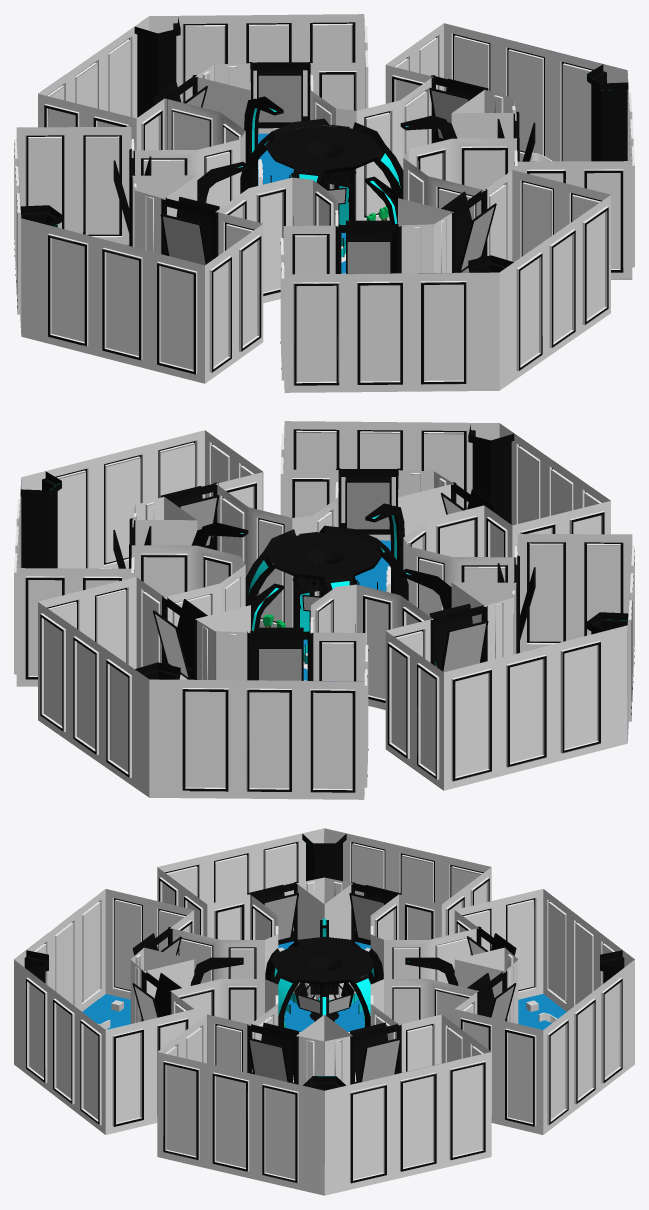
The model's file is hall2.glb.
3 views of the same model, one above another, from view 1: azimuth 30°, elevation 25°; view 2: azimuth 150°, elevation 25°; view 3: azimuth 270°, elevation 25° (orthographic). The views are drawn at different scales.
Visible parts, largest first — view 1: Circle, Circle.041, Circle.001, Circle.033, PanelDisplayA4, PanelDisplayD1, PanelDisplayC3, PanelDisplayC1, PanelDisplayB4; view 2: Circle, Circle.041, Circle.001, Circle.033, PanelDisplayC2, PanelDisplayD3, PanelDisplayA2, PanelDisplayA1, PanelDisplayB3; view 3: Circle, Circle.041, Circle.001, Circle.033, PanelDisplayB2, PanelDisplayB1, PanelDisplayD4, PanelDisplayD2.
Part boxes in pixels (bbox=[...]): Circle: bbox=[14, 14, 634, 392]; Circle.041: bbox=[20, 17, 628, 273]; Circle.001: bbox=[240, 118, 403, 273]; Circle.033: bbox=[113, 62, 535, 273]; PanelDisplayA4: bbox=[258, 75, 301, 122]; PanelDisplayD1: bbox=[163, 216, 205, 265]; PanelDisplayC3: bbox=[347, 242, 390, 273]; PanelDisplayC1: bbox=[461, 207, 494, 270]; PanelDisplayB4: bbox=[431, 90, 467, 138]; Circle: bbox=[14, 421, 634, 799]; Circle.041: bbox=[20, 424, 628, 680]; Circle.001: bbox=[245, 525, 408, 680]; Circle.033: bbox=[113, 477, 535, 680]; PanelDisplayC2: bbox=[347, 482, 389, 529]; PanelDisplayD3: bbox=[443, 623, 486, 672]; PanelDisplayA2: bbox=[259, 649, 301, 680]; PanelDisplayA1: bbox=[155, 614, 188, 677]; PanelDisplayB3: bbox=[180, 497, 216, 545]; Circle: bbox=[14, 828, 634, 1195]; Circle.041: bbox=[24, 834, 624, 1090]; Circle.001: bbox=[265, 936, 383, 1082]; Circle.033: bbox=[132, 884, 516, 1082]; PanelDisplayB2: bbox=[249, 1040, 287, 1081]; PanelDisplayB1: bbox=[362, 1040, 399, 1081]; PanelDisplayD4: bbox=[351, 895, 383, 939]; PanelDisplayD2: bbox=[264, 895, 296, 939].
Size of what is drawn, in the model's own units: 135 by 25.75 by 135.
12 materials, 9 textured.
